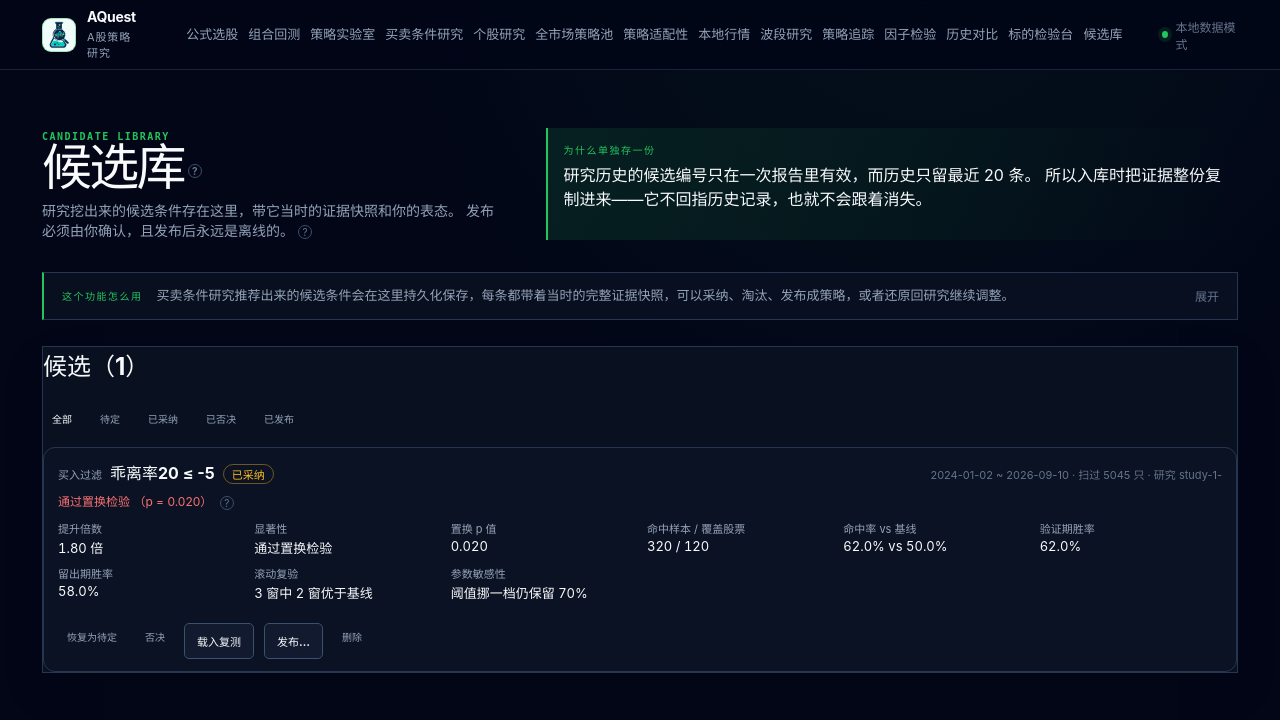
Test case: CandidateLibraryPage › publishes after showing what will be written, and reports it stayed offline
The image size is (1280, 720).
Click the button with test id "candidate-publish-open-c1": {"x": 294, "y": 641} [264,623,323,659]
(page scrolled)
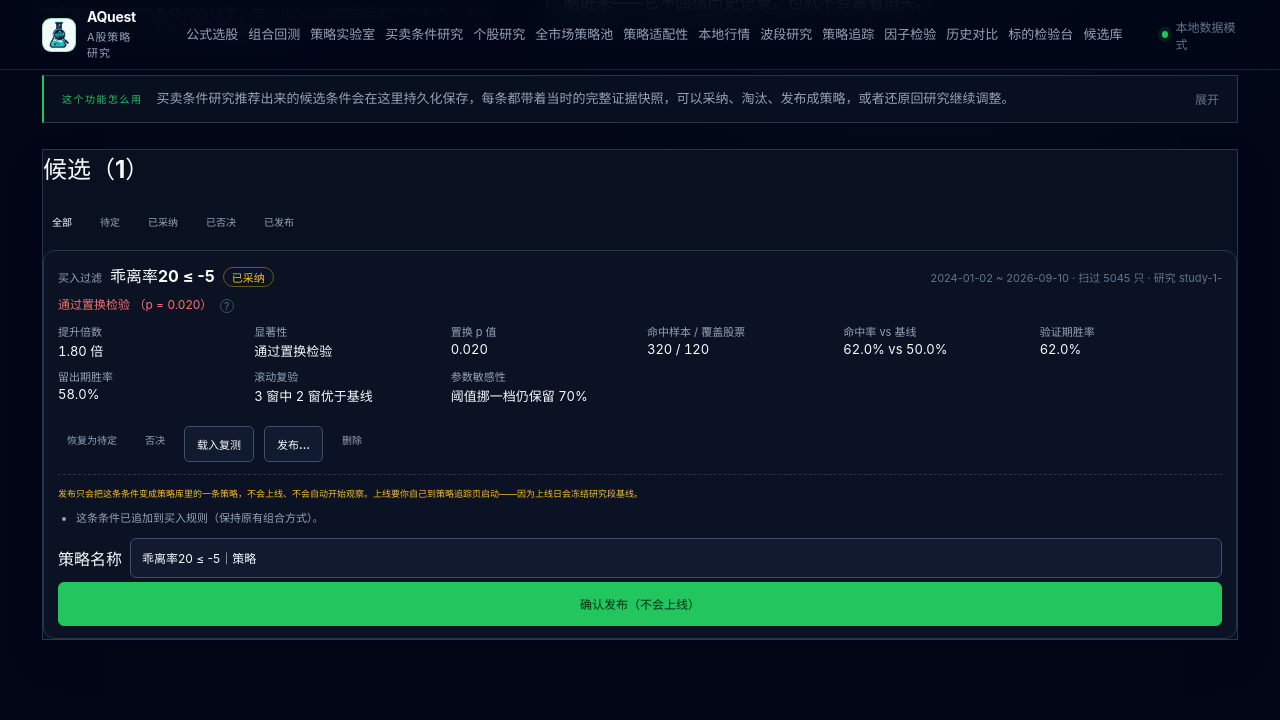
Expected: the text with test id "publish-warning" shows "不会上线", [58,488,643,499]
Expected: the list with test id "publish-notes" shows "追加到买入规则", [76,511,324,525]
Replace the text in the field with test id "publish-name-c1" with "甲策略": {"x": 676, "y": 558} [130,538,1222,578]
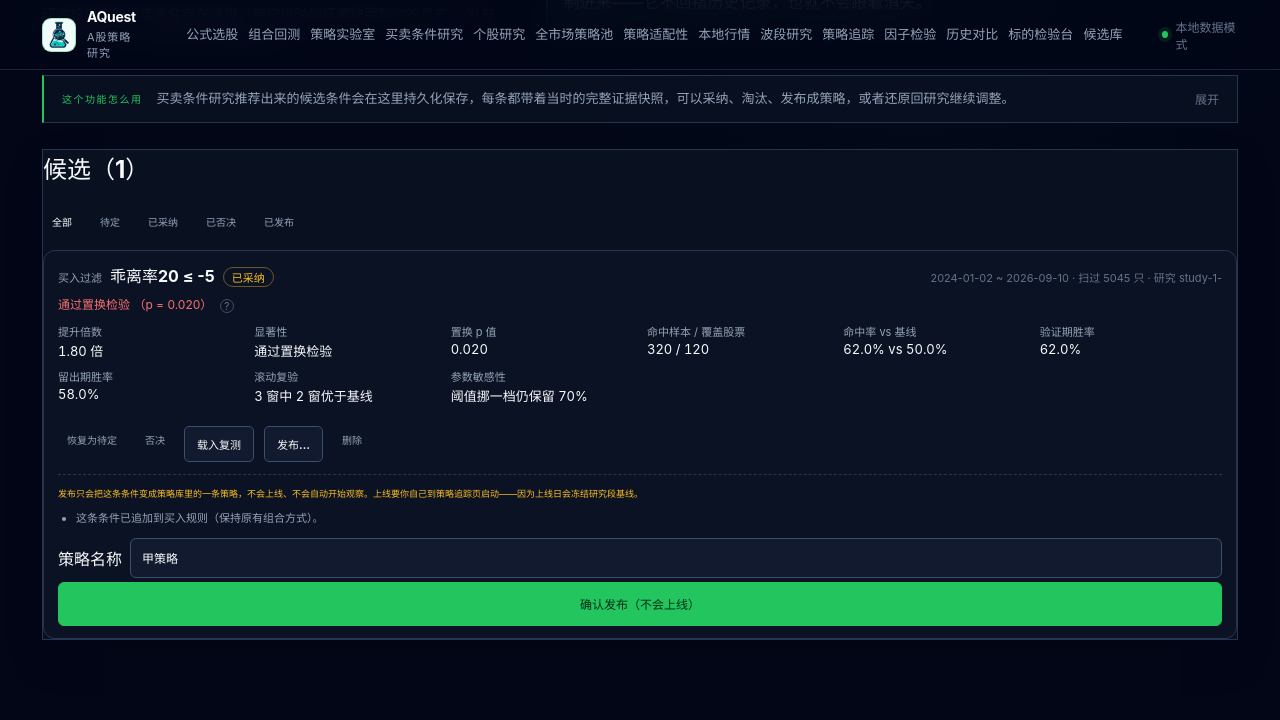
Click the button with test id "candidate-publish-confirm-c1": {"x": 640, "y": 604} [58,582,1222,626]
(page scrolled)
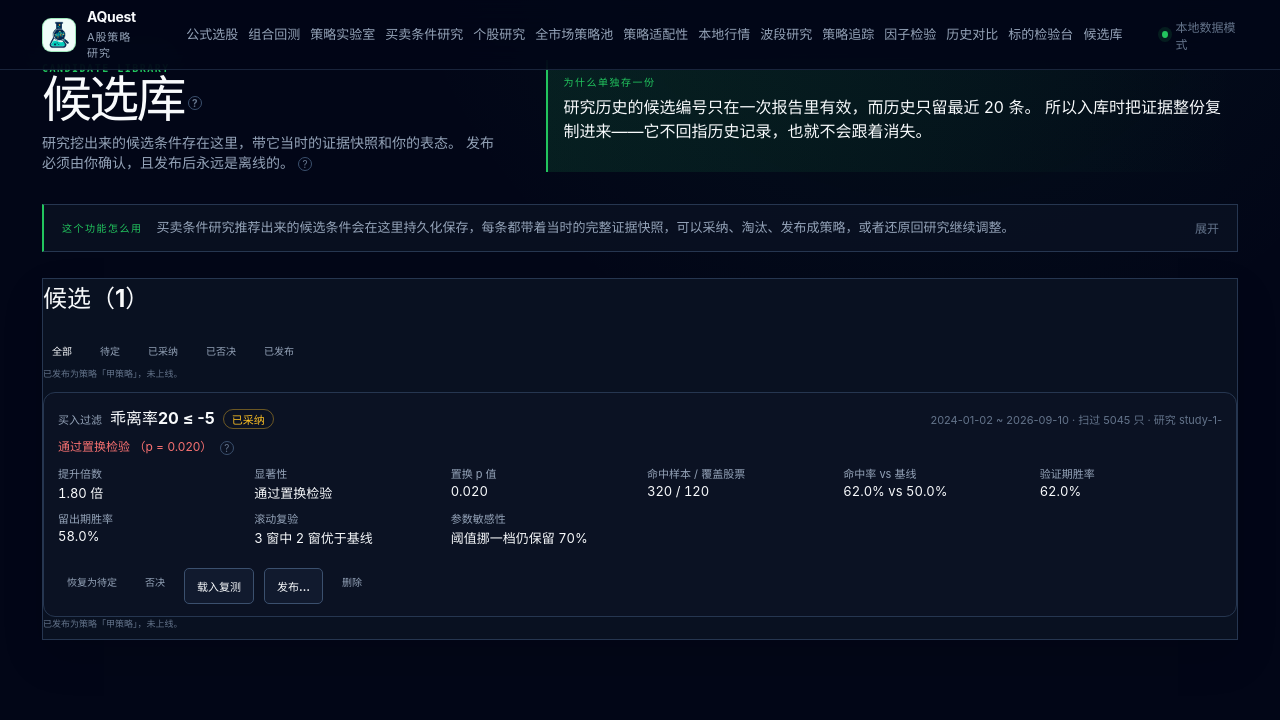
Expected: the text with test id "publish-result" shows "未上线", [43,618,182,629]
